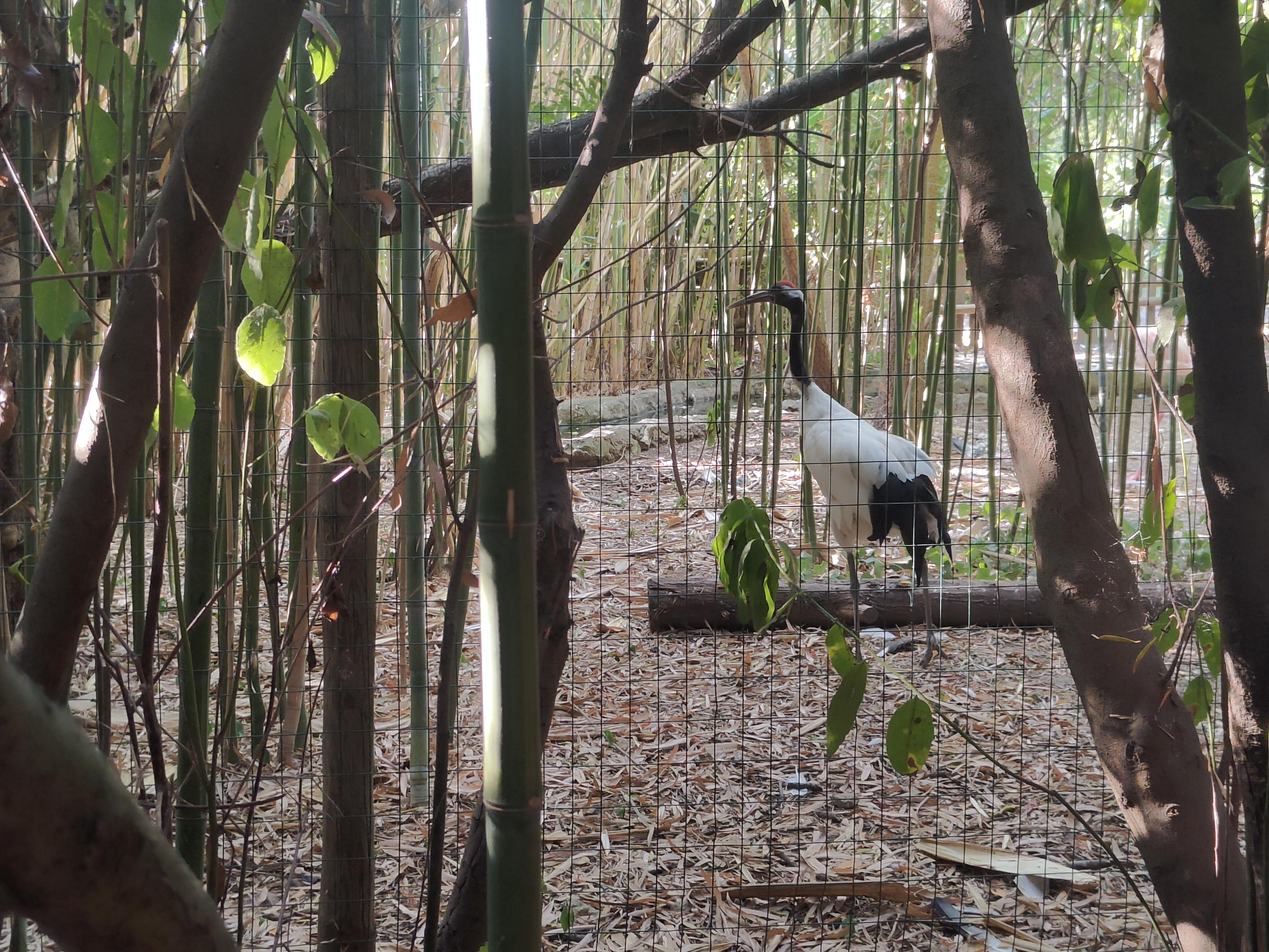apple: (726, 279, 954, 670)
